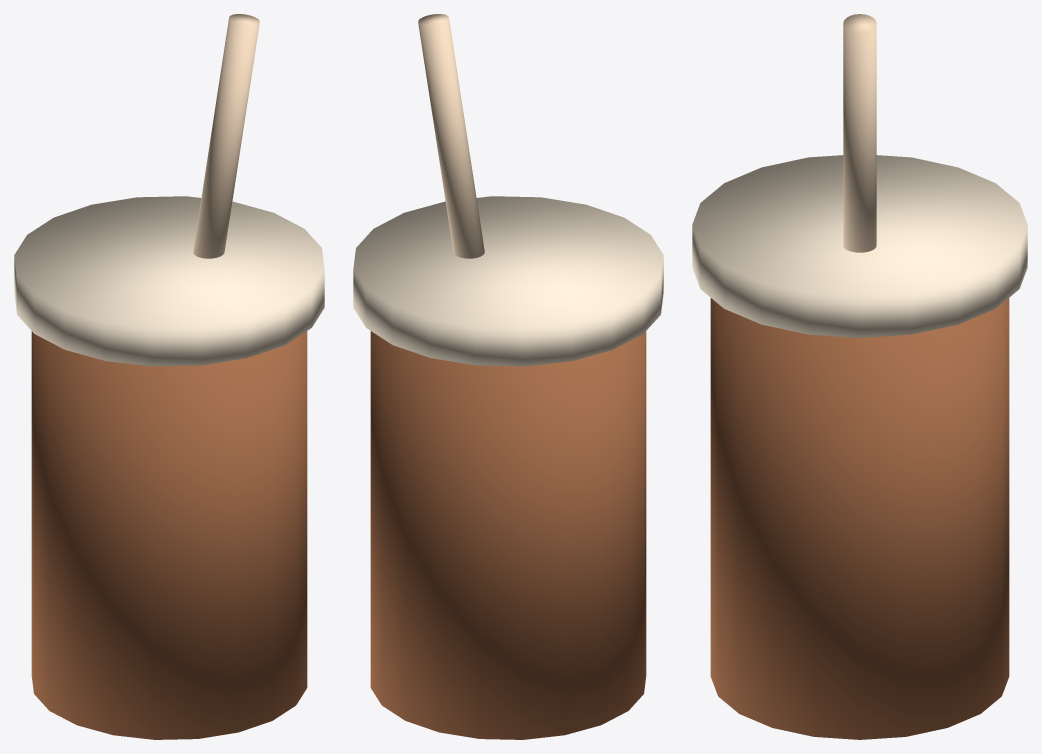
File: coffee.glb
3 renders of one model, left to right at view 1: azimuth 30°, elevation 25°; view 2: azimuth 150°, elevation 25°; view 3: azimuth 270°, elevation 25°, orthographic. The views are drawn at different scales.
Visible parts, largest first — view 1: Cup, Lid, Straw; view 2: Cup, Lid, Straw; view 3: Cup, Lid, Straw.
Boxes of the visible parts, x1,y1,x2,y2 form: Cup: (31, 331, 307, 739); Lid: (14, 196, 324, 366); Straw: (193, 14, 259, 258); Cup: (370, 331, 646, 739); Lid: (353, 196, 663, 366); Straw: (418, 14, 484, 258); Cup: (710, 298, 1009, 739); Lid: (692, 155, 1027, 337); Straw: (843, 14, 876, 252).
Size of the model in its own units: 0.36 by 0.823 by 0.36.
